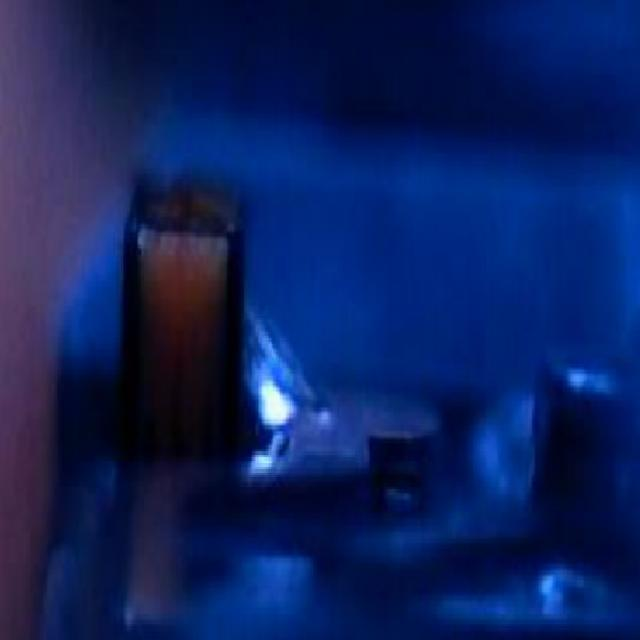Component: (116, 164, 258, 462)
Solder: (228, 264, 350, 470)
